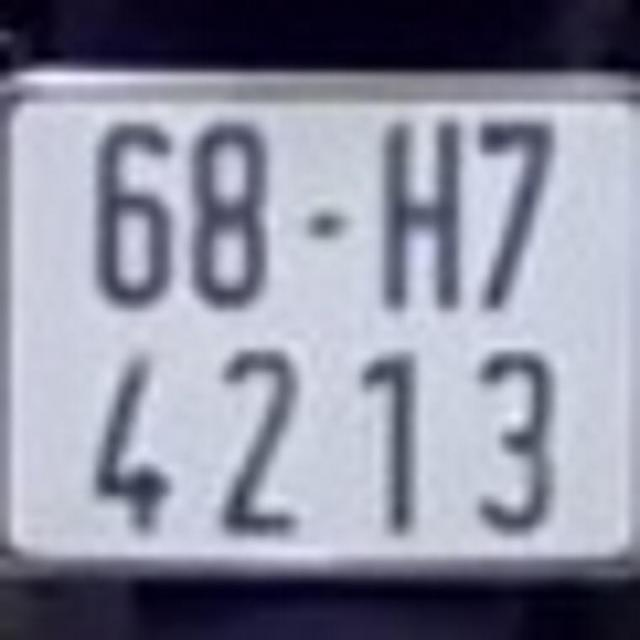1: (362, 354, 427, 528)
2: (220, 356, 294, 538)
3: (488, 343, 562, 523)
4: (103, 343, 172, 532)
6: (94, 119, 168, 314)
7: (475, 120, 557, 311)
8: (191, 127, 269, 320)
H: (378, 123, 458, 320)
